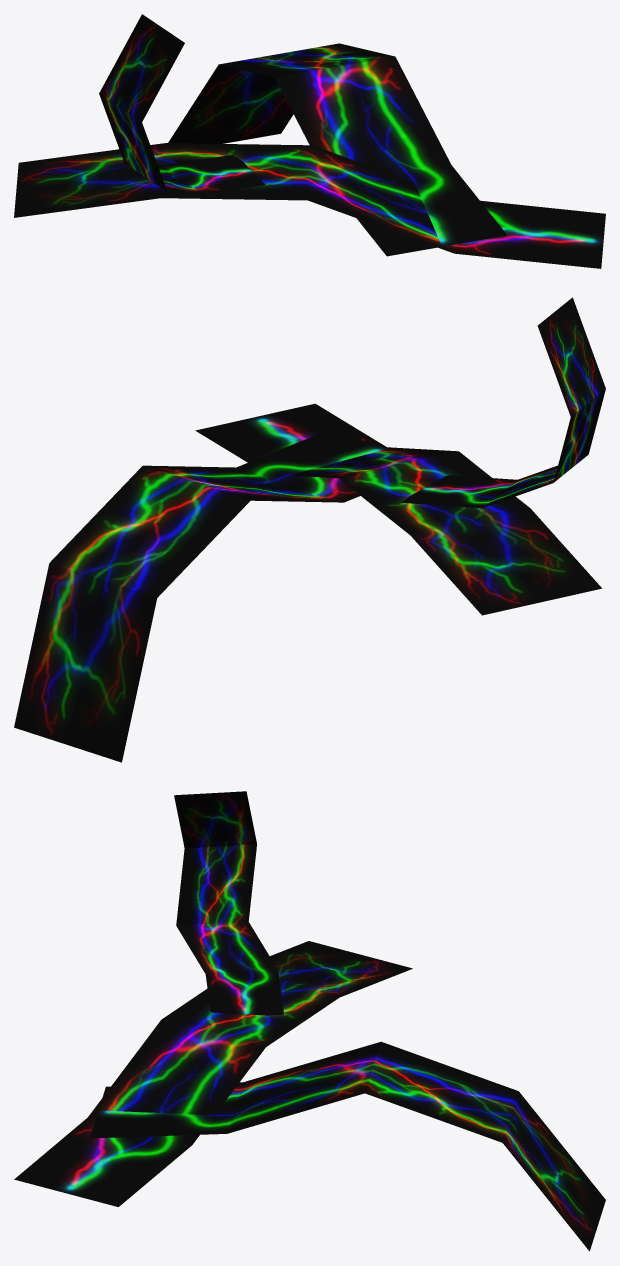
Rendered from LightningTower_Bullet_Effect1.FBX.
The picture shows the model from 3 angles, top to bottom: view 1: azimuth 30°, elevation 25°; view 2: azimuth 150°, elevation 25°; view 3: azimuth 270°, elevation 25°; orthographic projection. The views are drawn at different scales.
Parts seen in each view (by area): view 1: lightning_SM_2; view 2: lightning_SM_2; view 3: lightning_SM_2.
Part boxes in pixels (left/top/right/bottom): lightning_SM_2: left=14, top=14, right=605, bottom=268; lightning_SM_2: left=14, top=297, right=605, bottom=762; lightning_SM_2: left=14, top=791, right=605, bottom=1251.
Bounding box in the file's own units: 174 × 112 × 192.
